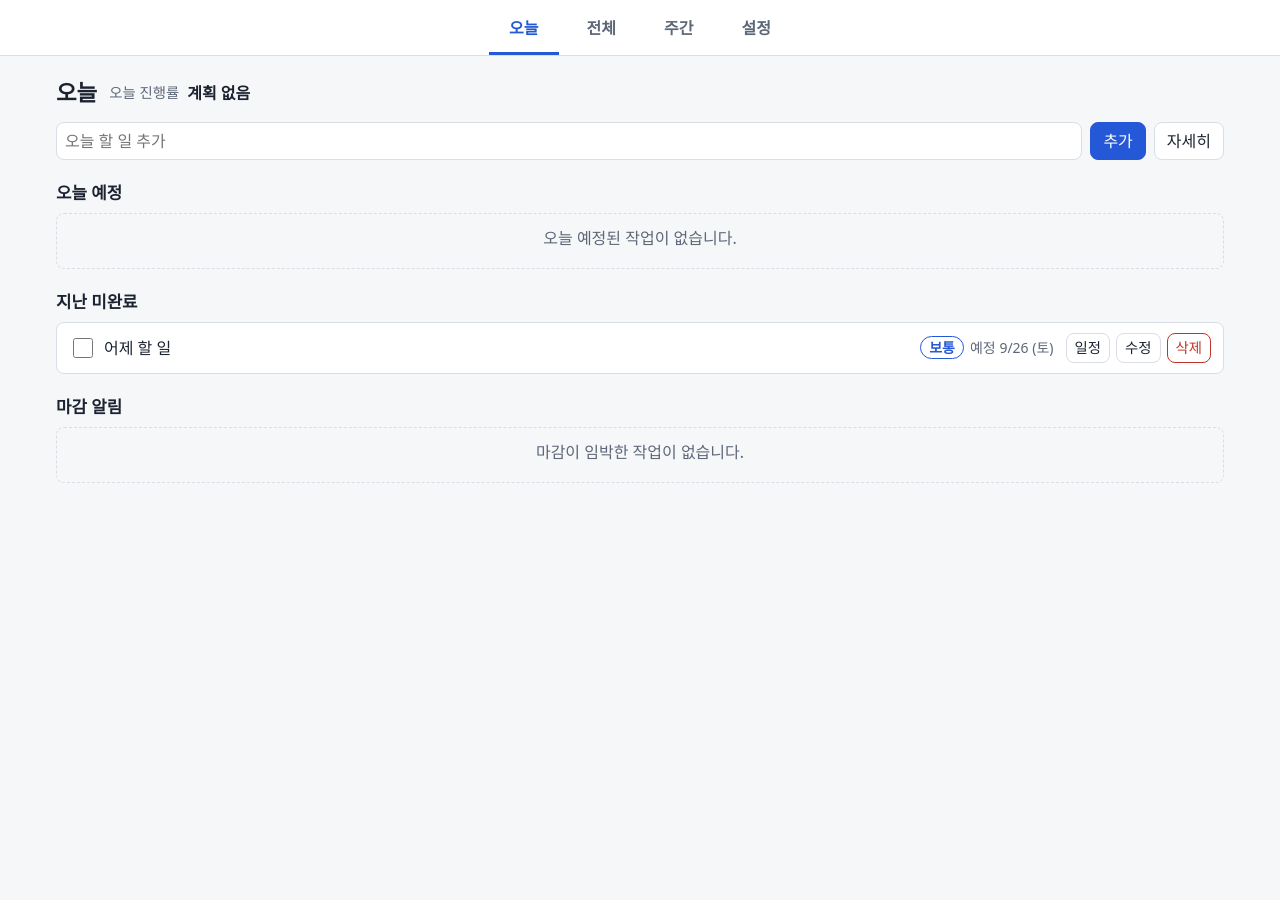
it: 오늘 화면 › 지난 미완료에서 완료하면 목록에서 빠지고 [되돌리기]로 돌아온다 (AC26)
Click the checkbox labelled "어제 할 일" at (83, 348), box left=73, top=338, right=93, bottom=358
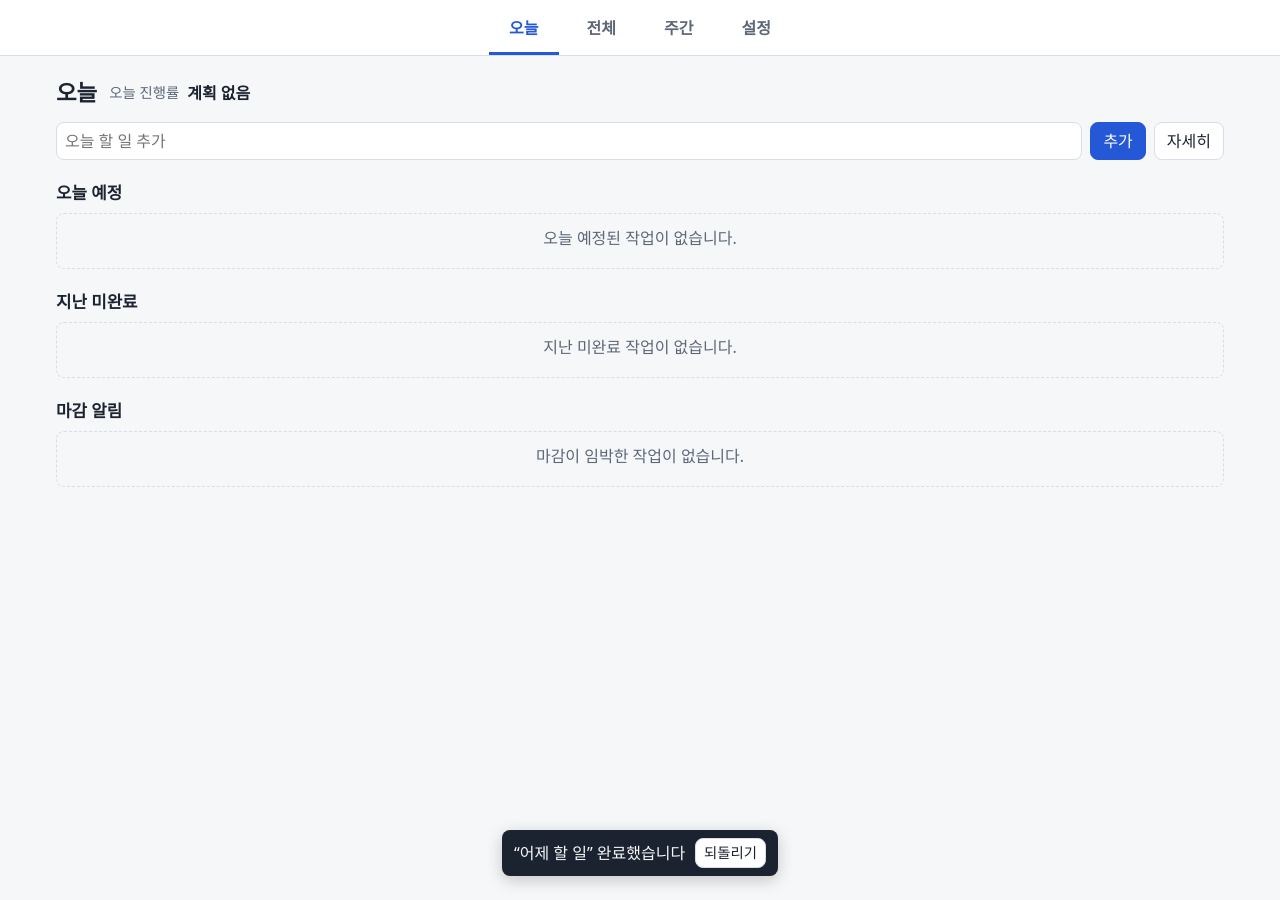
Expected: the text "지난 미완료 작업이 없습니다." is shown, left=543, top=336, right=737, bottom=358
Expected: the text "“어제 할 일” 완료했습니다" is shown, left=514, top=841, right=685, bottom=865
Click the button "되돌리기" at (731, 853), box left=695, top=838, right=766, bottom=868
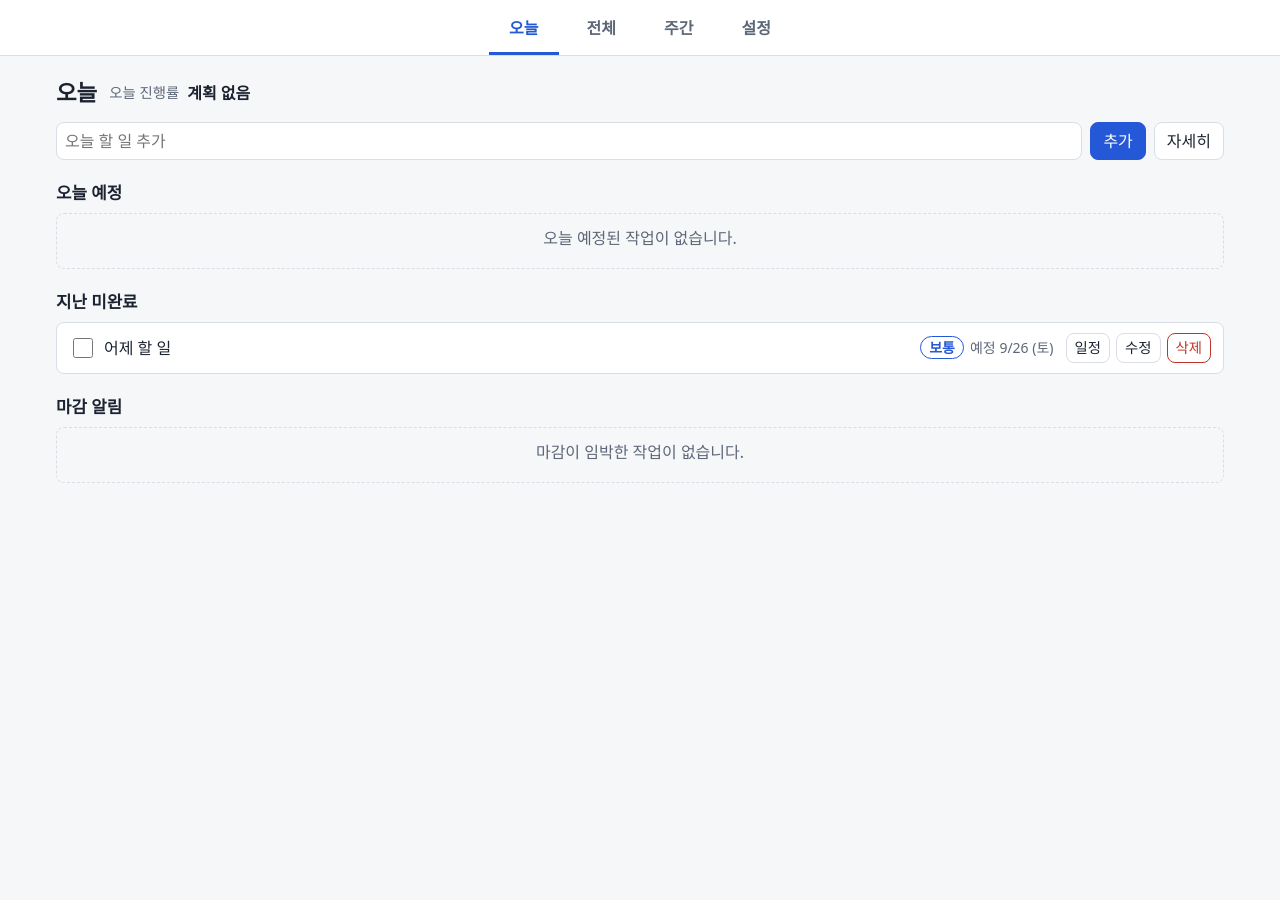
Expected: the checkbox labelled "어제 할 일" is not checked, left=73, top=338, right=93, bottom=358
